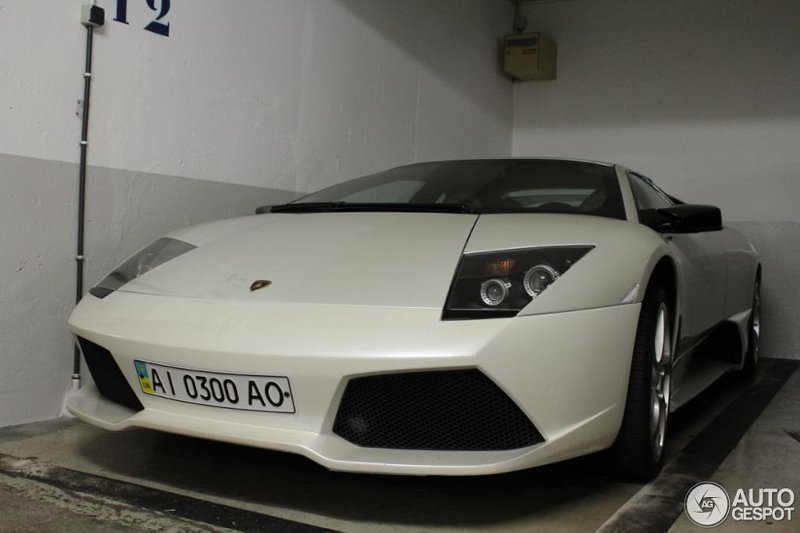car: (58, 157, 764, 484)
plate: (133, 360, 292, 414)
